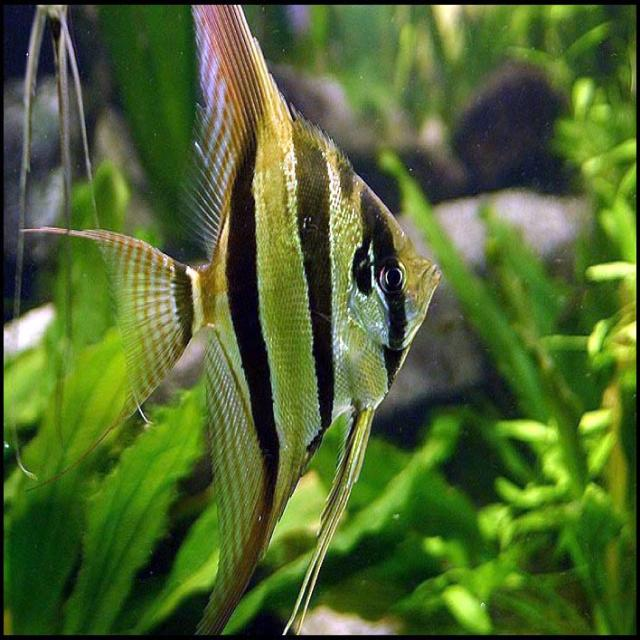AngelFish: (55, 3, 437, 627)
